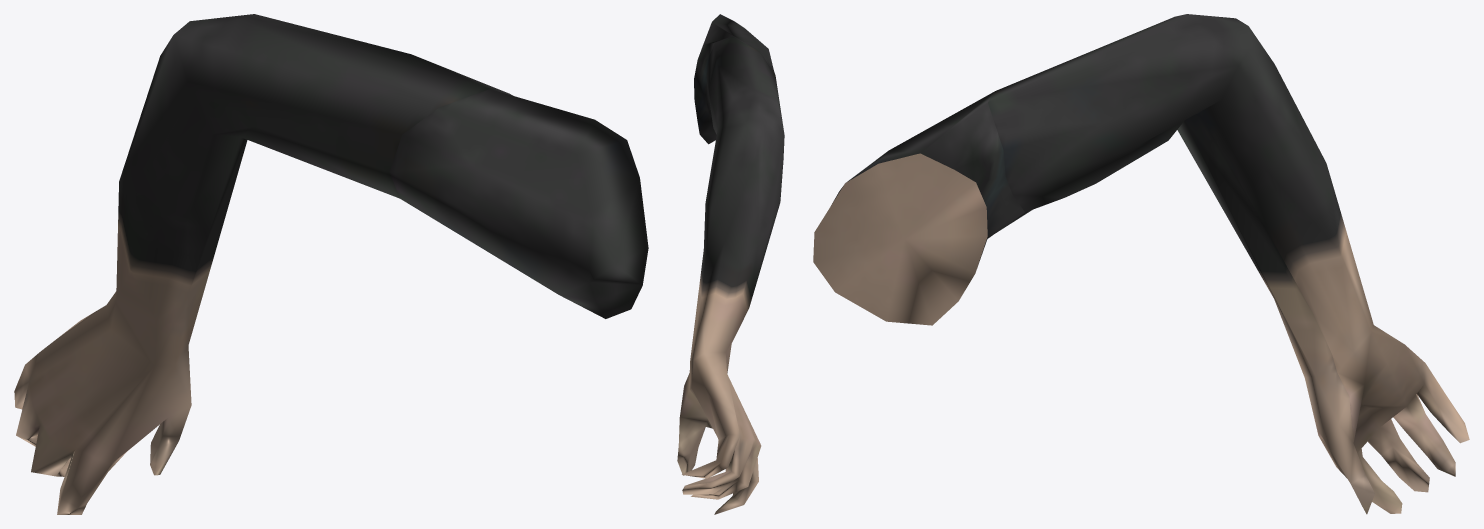
The model's file is dest_nt_nuked_female_02_arm_right_LOD2.obj.
3 renders of one model, left to right at view 1: azimuth 30°, elevation 25°; view 2: azimuth 150°, elevation 25°; view 3: azimuth 270°, elevation 25°, orthographic. The views are drawn at different scales.
Visible parts, largest first — view 1: mtl_nt_2020_manne_fem01_head1; view 2: mtl_nt_2020_manne_fem01_head1; view 3: mtl_nt_2020_manne_fem01_head1.
Boxes of the visible parts, x1,y1,x2,y2 form: mtl_nt_2020_manne_fem01_head1: (14, 14, 648, 514); mtl_nt_2020_manne_fem01_head1: (677, 14, 784, 514); mtl_nt_2020_manne_fem01_head1: (813, 14, 1469, 514).
Bounding box in the file's own units: 24.03 × 39.89 × 45.41.
